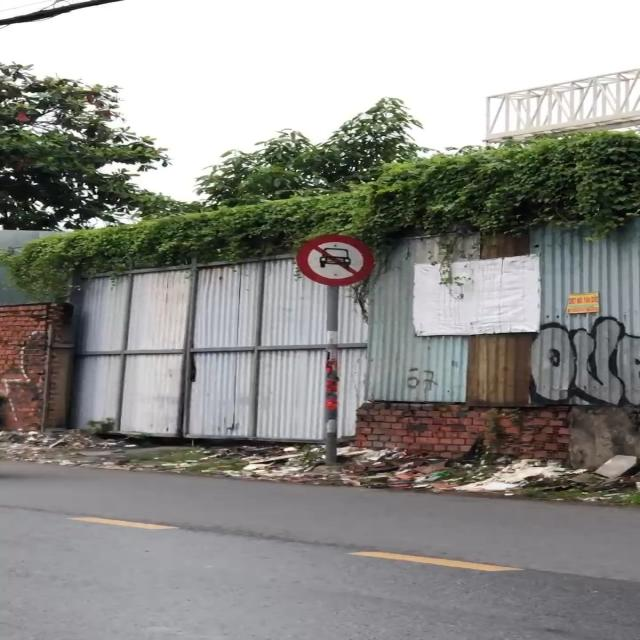Bien bao cam xe oto: (292, 232, 382, 290)
